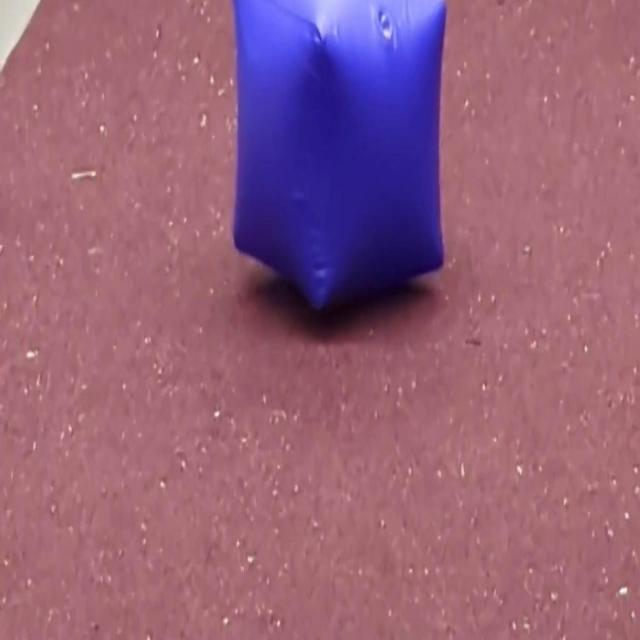frc_cube: (230, 0, 448, 324)
